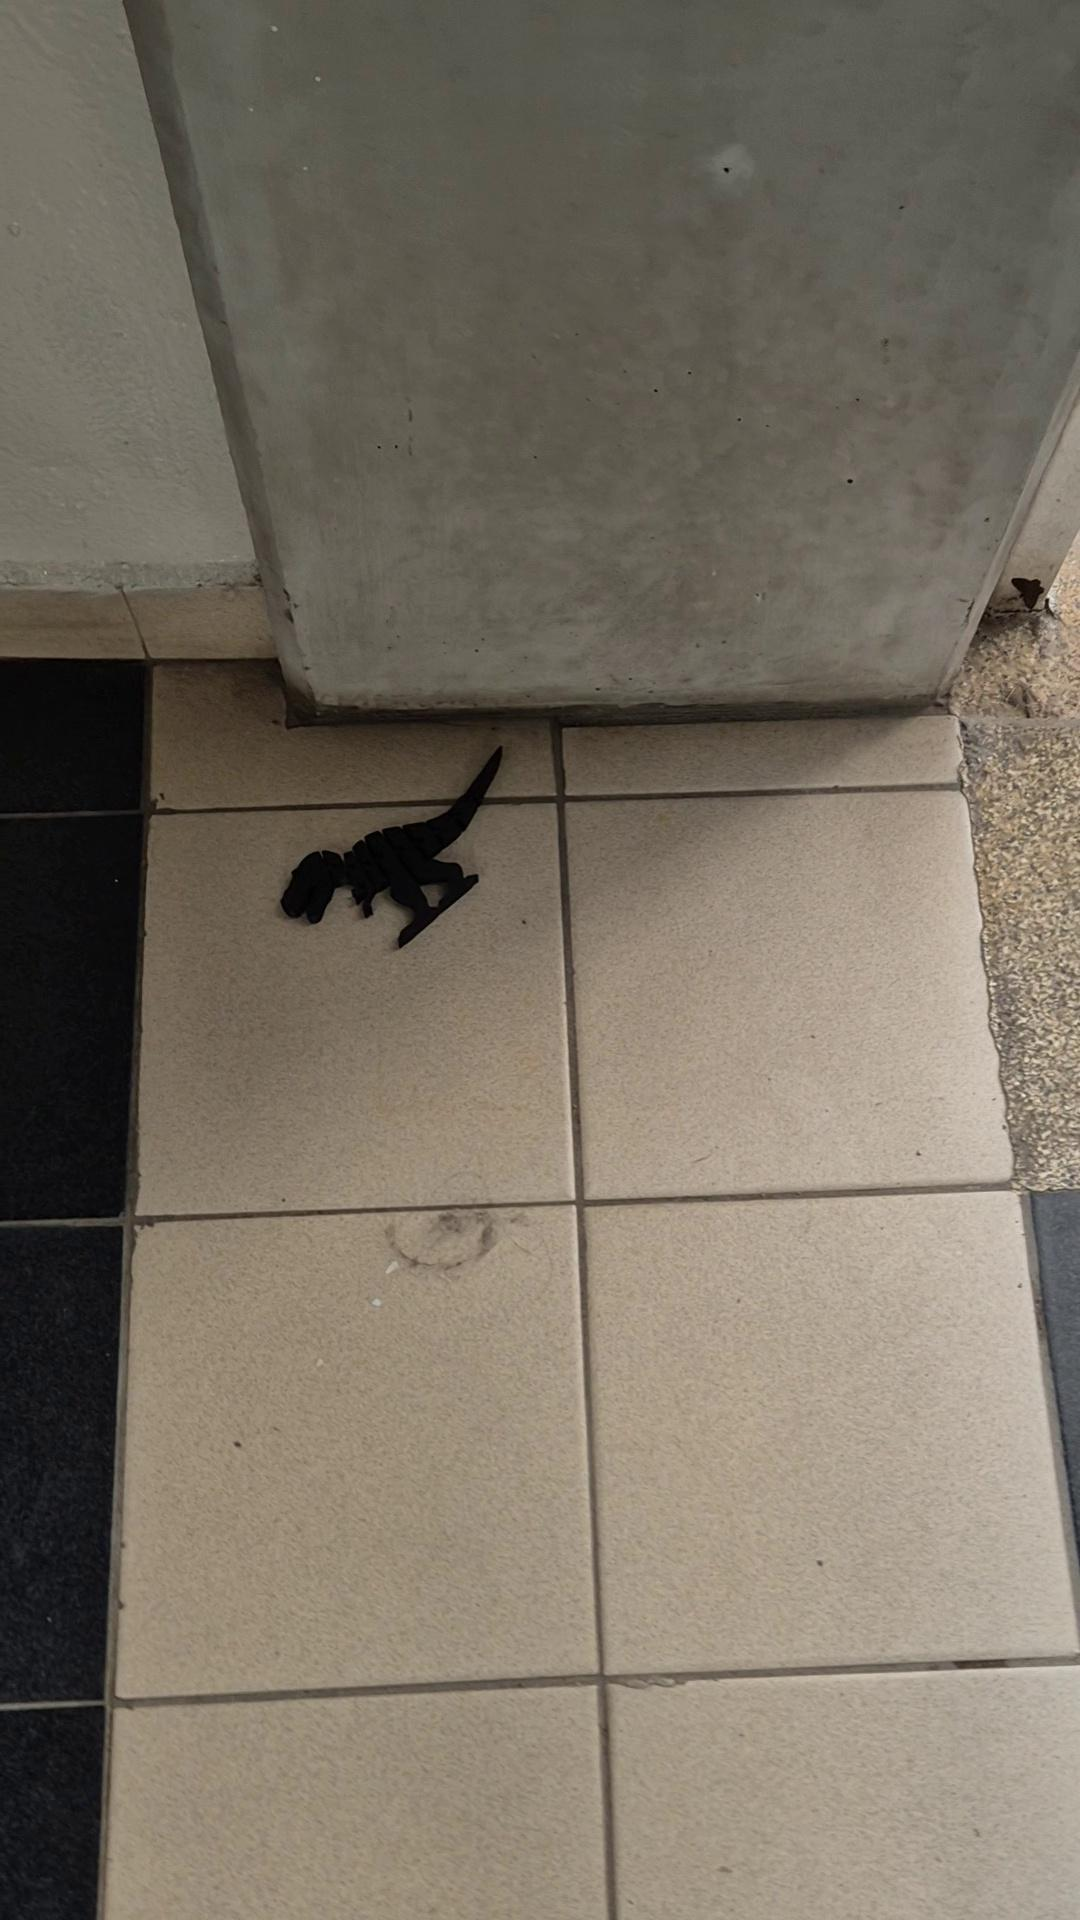dinosaur: (278, 744, 504, 949)
